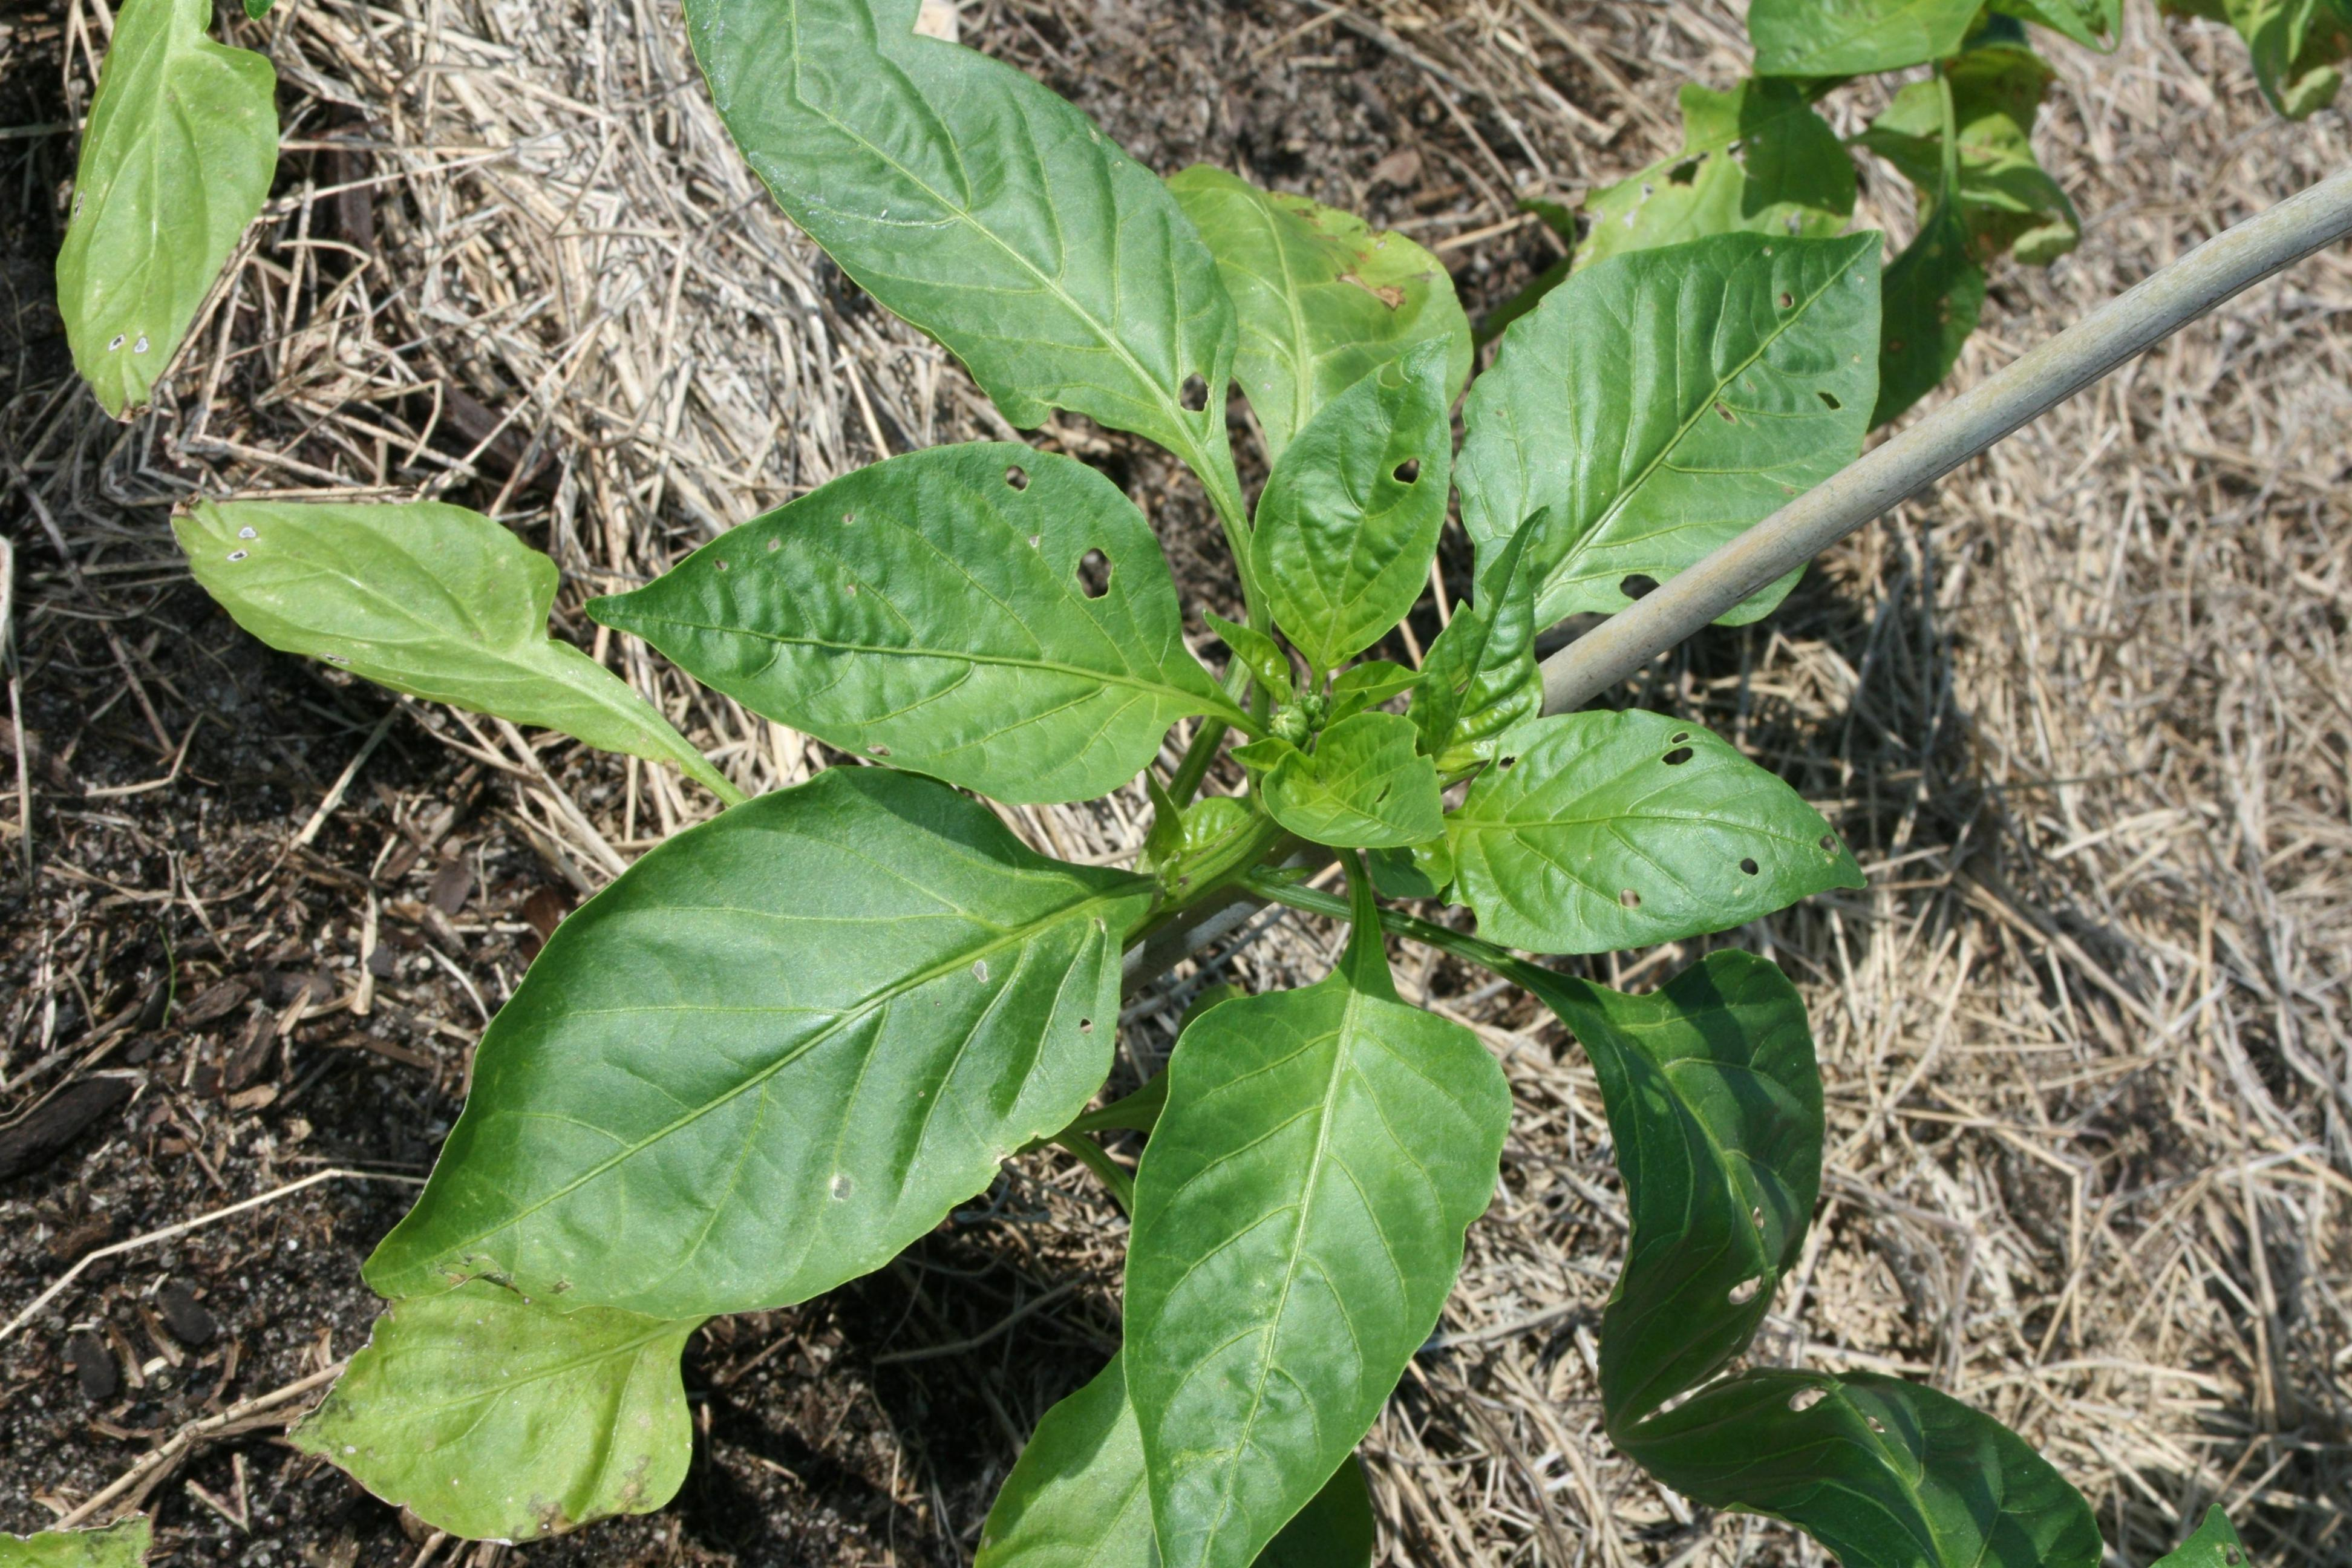Tomato leaf: (296, 675, 1200, 1449), (520, 252, 1270, 982), (896, 875, 1678, 1568), (150, 303, 756, 964), (717, 0, 1330, 647), (1342, 107, 1993, 691), (1395, 600, 1914, 1064)
